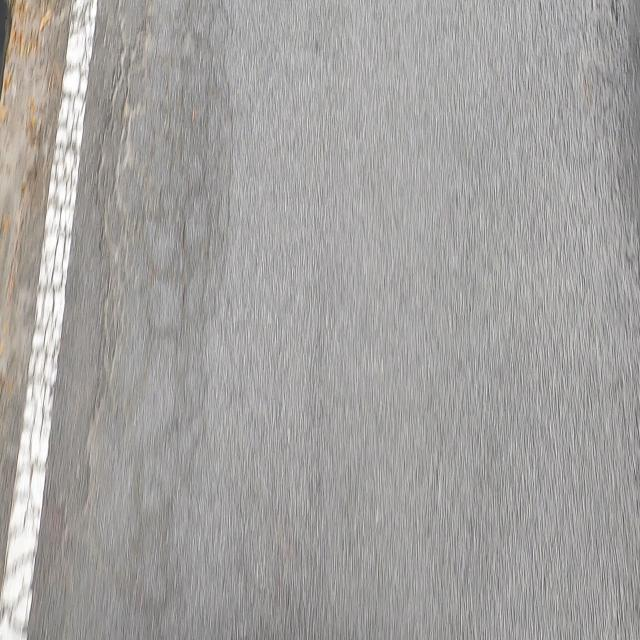Retak-Buaya: (81, 1, 240, 626), (0, 0, 100, 635)
